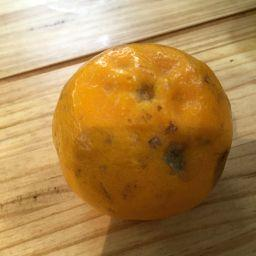Unripe: (50, 43, 235, 219)
